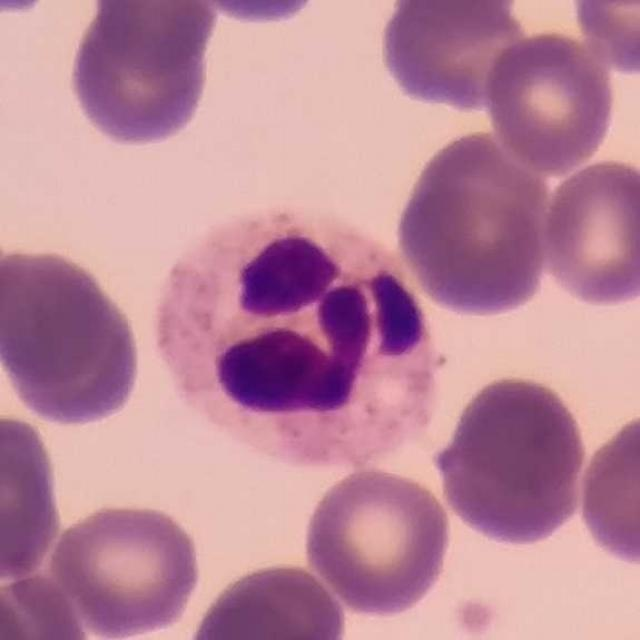Neutrophil: (158, 210, 450, 475)
Platelets: (442, 593, 504, 640)
RBC: (393, 126, 554, 320), (431, 368, 592, 549), (0, 243, 145, 430), (298, 463, 456, 618), (54, 496, 215, 638), (63, 5, 217, 150), (480, 27, 620, 175), (375, 0, 535, 115), (536, 154, 640, 310), (182, 557, 350, 640), (0, 408, 66, 586), (573, 404, 640, 571), (84, 0, 222, 72), (0, 569, 92, 640), (567, 0, 640, 78), (379, 0, 526, 35), (165, 0, 337, 29)
